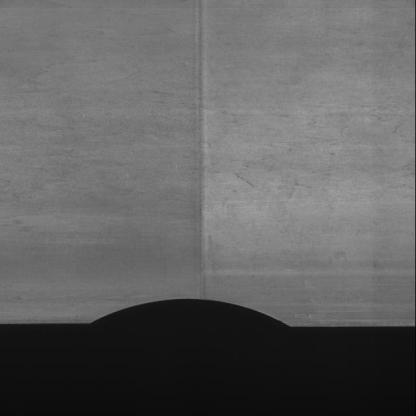welding_line: (184, 0, 220, 304)
